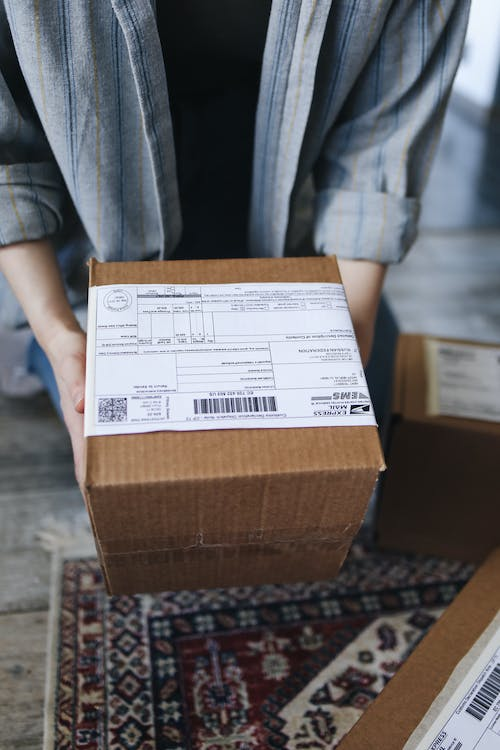QRCode: (92, 285, 348, 432)
